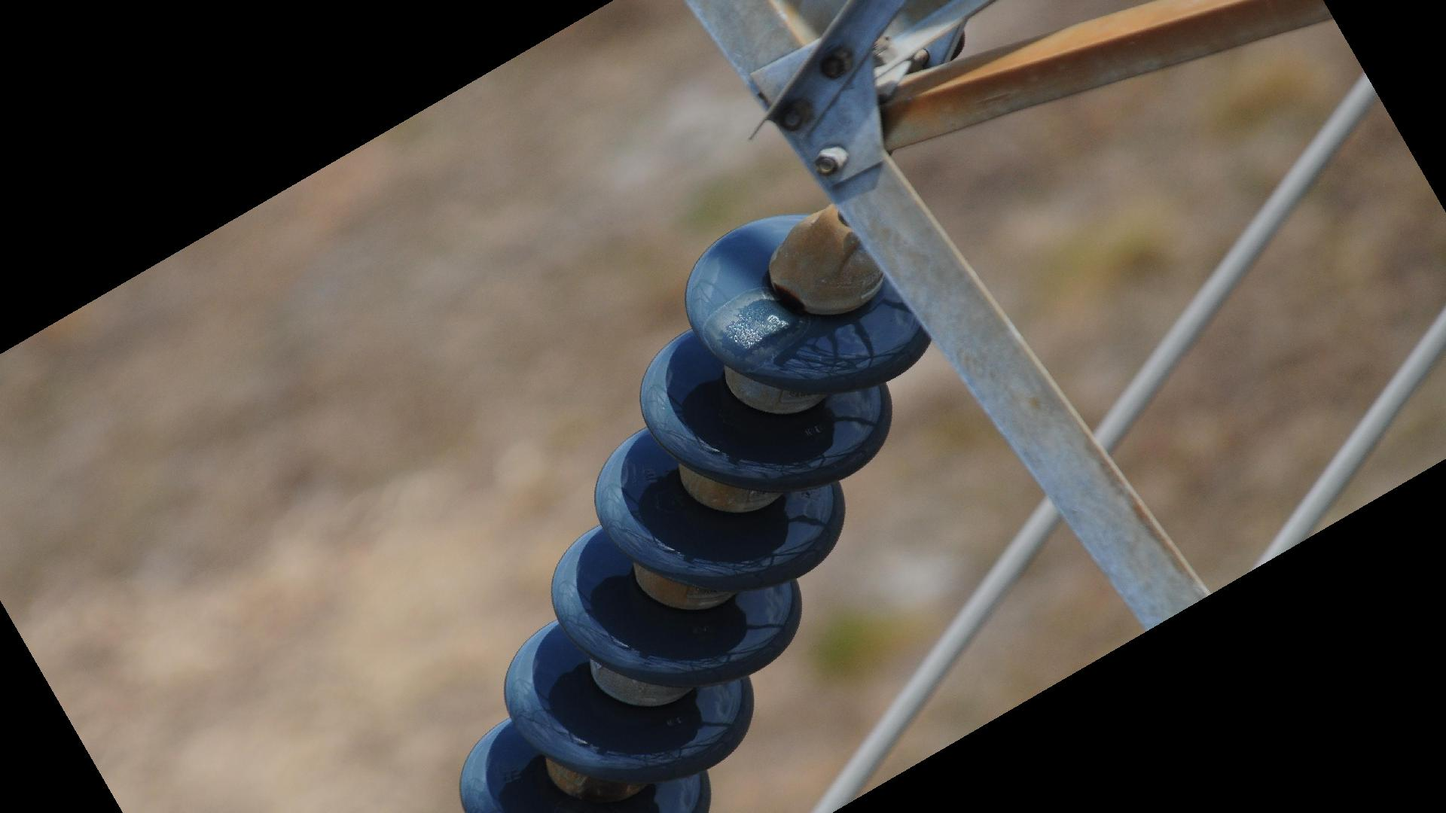insulator: (455, 209, 932, 813)
insulator_flashover: (701, 282, 806, 376)
